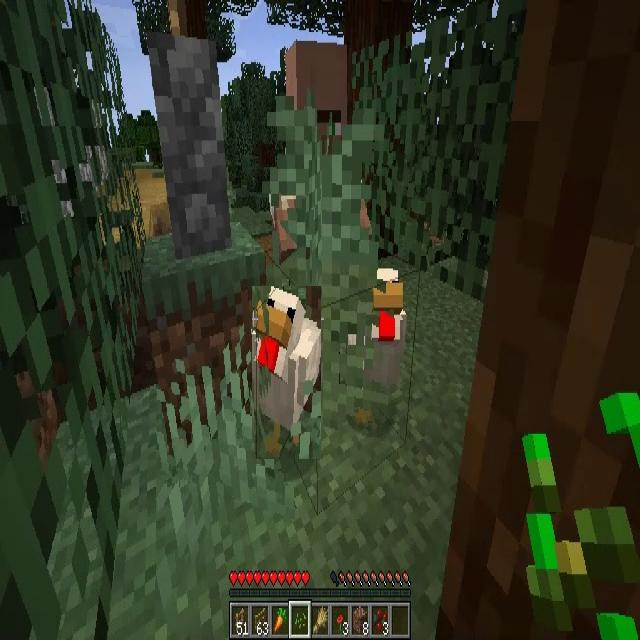duck: (252, 286, 321, 459), (348, 269, 407, 432)
